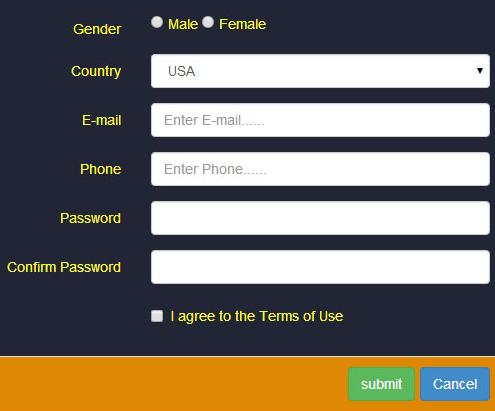button: (346, 365, 415, 402), (419, 367, 491, 402)
checkbox: (150, 305, 165, 325)
checkbox_with_label: (147, 303, 345, 327)
field: (148, 99, 490, 140), (147, 249, 491, 288), (148, 198, 491, 236), (150, 151, 493, 187), (150, 53, 494, 88)
field_with_label: (5, 246, 493, 290), (81, 97, 493, 141), (59, 197, 494, 238), (75, 148, 495, 190), (71, 51, 495, 90)
radio: (201, 14, 219, 30), (150, 13, 164, 30)
radio_with_label: (199, 11, 266, 32), (146, 11, 198, 32)
